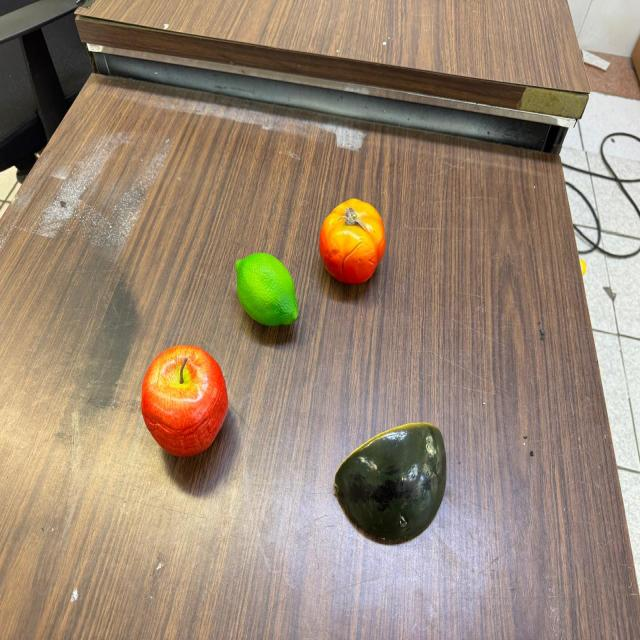apple: (140, 345, 228, 455)
lemon: (235, 252, 299, 326)
tomato: (318, 199, 384, 284)
watermelon: (332, 423, 447, 541)
